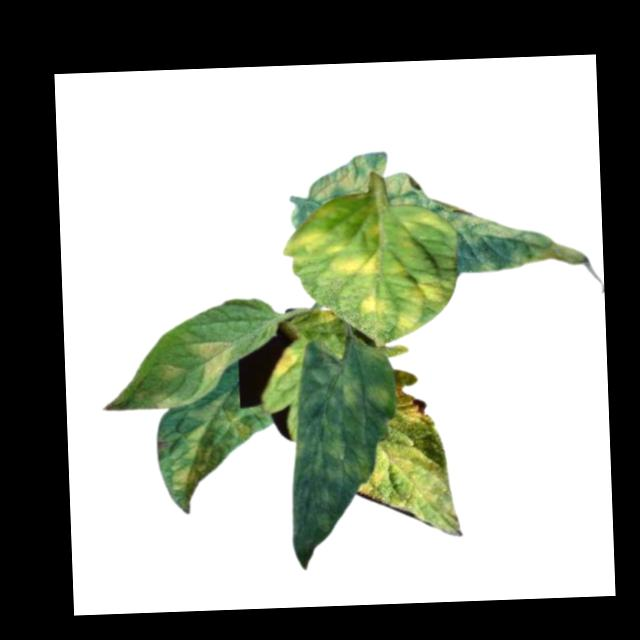Leaf_Mold: (282, 195, 460, 346), (285, 345, 396, 567), (355, 437, 464, 541), (455, 200, 596, 274), (168, 395, 258, 503), (304, 151, 390, 206), (395, 383, 434, 428), (198, 340, 234, 378), (270, 343, 300, 379), (158, 363, 190, 382)
